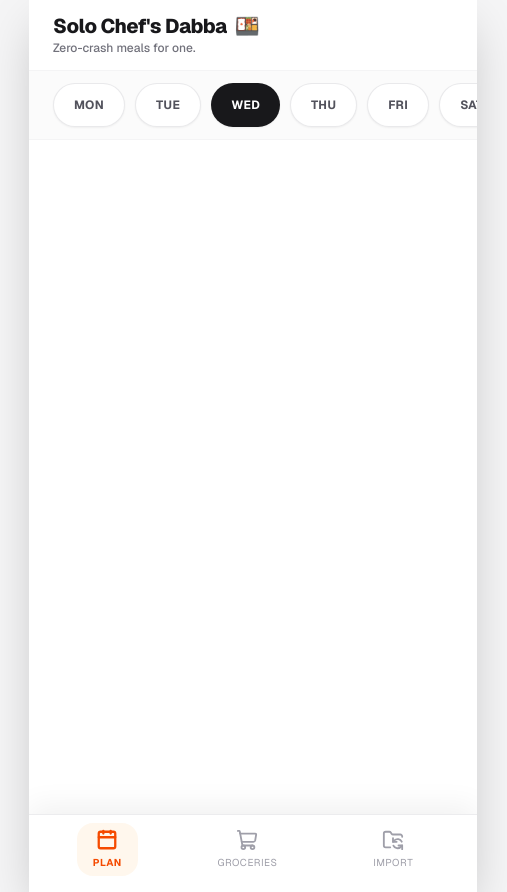
Page › uses role="checkbox" and aria-checked for grocery checklist items
Click the button "Groceries".
click(247, 850)  # box [201,823,294,876]
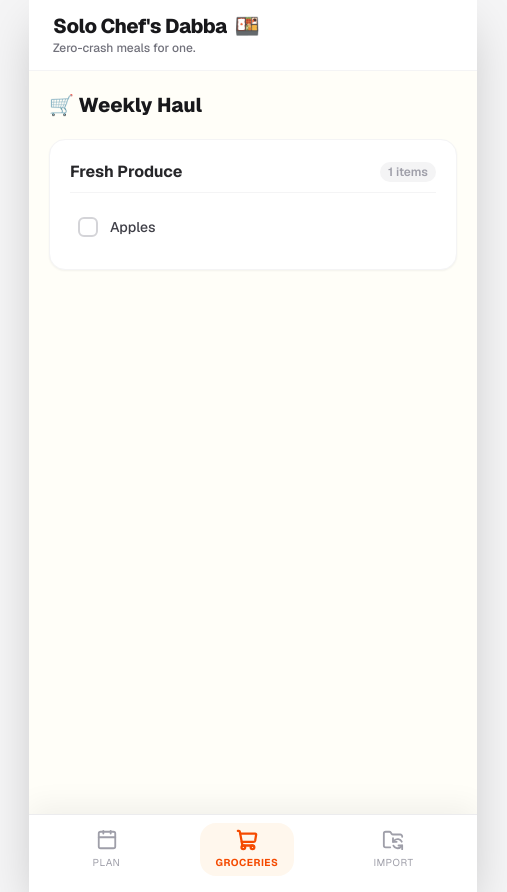
Check: the checkbox labelled "Apples" is shown, box [70,205,436,249]
